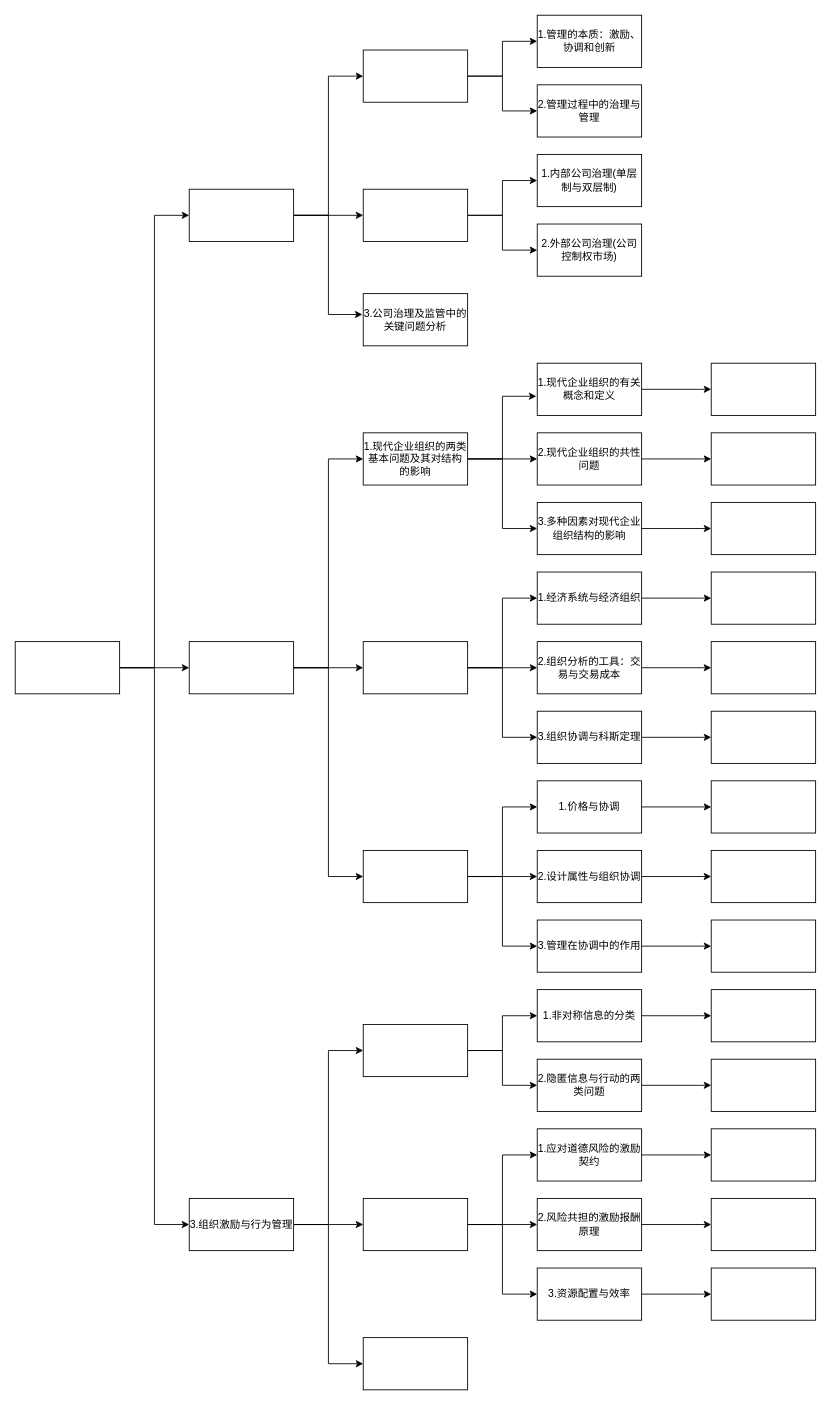
This 831x1405 diagram has some shape labels left out. Each missing label, with the centre of its shape:
"1.体现激励、协调、创新的企业组织治理与管理" goes at point 415,75.
"1.现代企业的治理与管理" goes at point 241,214.
"1.非对称信息与代理理论" goes at point 415,1050.
"2.不同公司治理模式的比较及其分析" goes at point 415,214.
"2.有效的组织激励" goes at point 415,1224.
"2.科斯定理与交易成本理论" goes at point 415,667.
"2.经济组织的共性问题、协调及交易成本" goes at point 241,667.
"3.经济组织中的行为管理" goes at point 415,1363.
"3.经济组织的协调机制" goes at point 415,876.
"经济组织的激励与协调及行为管理" goes at point 67,667.
